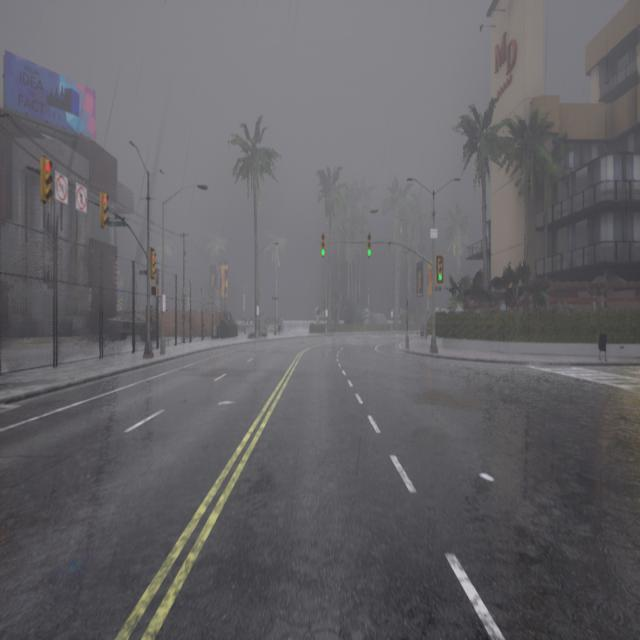6: (43, 156, 53, 174), (101, 192, 109, 204), (150, 250, 156, 260)
9: (39, 154, 55, 205), (100, 190, 110, 230), (150, 248, 157, 281), (320, 232, 326, 258), (367, 232, 372, 258), (437, 257, 442, 283)
bien_hieu_lenh: (321, 248, 325, 257), (438, 273, 442, 282), (367, 249, 371, 257)
